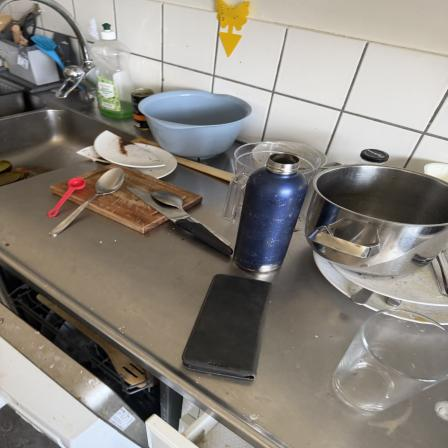blue_bottle: (244, 153, 306, 275)
phone: (186, 271, 270, 380)
